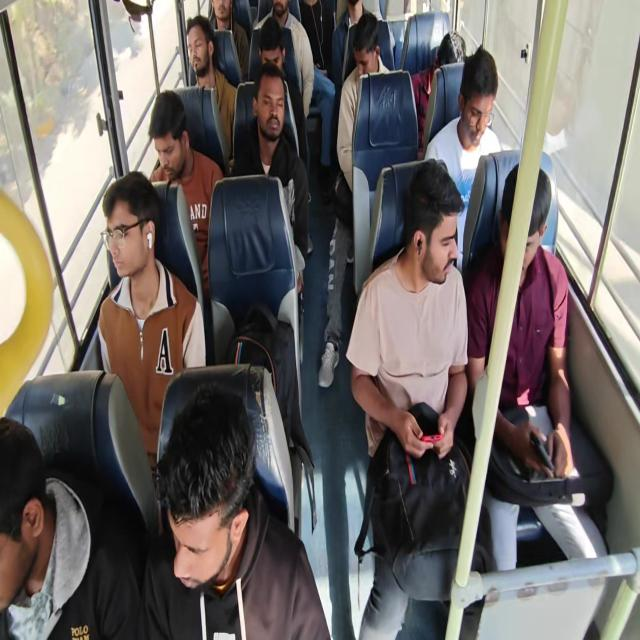person: (149, 380, 280, 640), (486, 133, 576, 327), (74, 159, 165, 347), (0, 364, 58, 640), (384, 176, 489, 296), (140, 68, 200, 193), (344, 20, 402, 117), (170, 20, 226, 89), (458, 43, 494, 135), (259, 92, 297, 169), (260, 36, 295, 114), (298, 2, 332, 63), (342, 0, 377, 38), (441, 27, 468, 75), (271, 1, 290, 38), (212, 0, 227, 25)
